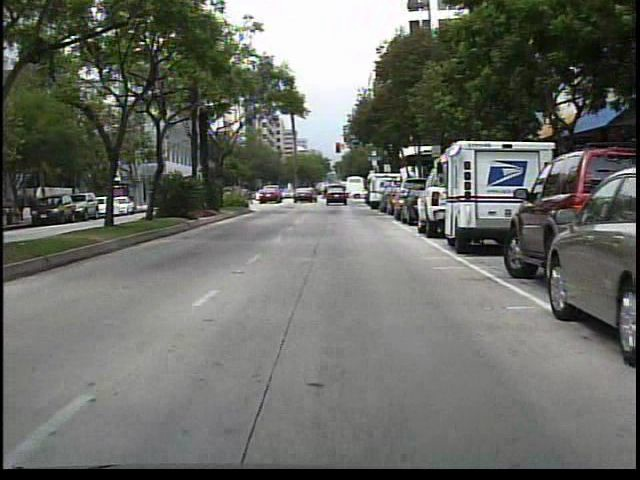person: (320, 183, 334, 203), (295, 182, 296, 205)
